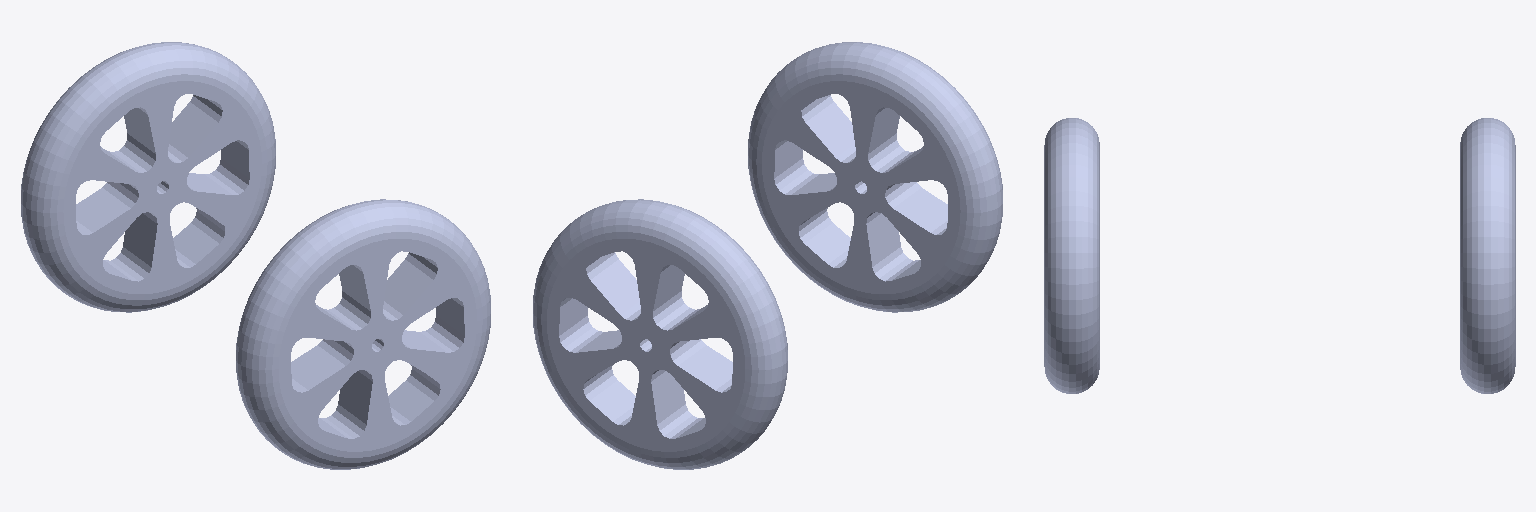
The robot description file, URDF, robot "robot_description":
<?xml version="1.0" encoding="utf-8"?>
<!-- This URDF was automatically created by SolidWorks to URDF Exporter! Originally created by [author] ([email redacted]) 
     Commit Version: 1.6.0-4-g7f85cfe  Build Version: 1.6.7995.38578
     For more information, please see http://wiki.ros.org/sw_urdf_exporter -->
<robot
        name="robot_description">
    <link
            name="Body">
        <inertial>
            <origin
                    xyz="0 0 0.1"
                    rpy="0 0 0"/>
            <mass
                    value="0.259687822807211"/>
            <inertia
                    ixx="0.000263883767567918"
                    ixy="1.04528591301818E-19"
                    ixz="2.83874959864717E-05"
                    iyy="0.00029022151243818"
                    iyz="-1.15373324614303E-19"
                    izz="0.000304338639837751"/>
        </inertial>
        <!--    <visual>-->
        <!--      <origin-->
        <!--        xyz="0 0 0"-->
        <!--        rpy="0 0 0" />-->
        <!--      <geometry>-->
        <!--        <mesh-->
        <!--          filename="package://robot_description/meshes/Body.STL" />-->
        <!--      </geometry>-->
        <!--      <material-->
        <!--        name="">-->
        <!--        <color-->
        <!--          rgba="0.792156862745098 0.819607843137255 0.933333333333333 1" />-->
        <!--      </material>-->
        <!--    </visual>-->
        <collision>
            <origin
                    xyz="0 0 0.1"
                    rpy="0 0 0"/>
            <geometry>
                <box size="0.1 0.12 0.2"/>
            </geometry>
        </collision>
    </link>
    <link
            name="Wheel_1">
        <inertial>
            <origin
                    xyz="0 0 0"
                    rpy="0 0 0"/>
            <mass
                    value="0.0981527452118754"/>
            <inertia
                    ixx="7.13246475399758E-05"
                    ixy="-1.0128527790249E-20"
                    ixz="4.9595293836236E-20"
                    iyy="0.00013687545343136"
                    iyz="3.05631062116939E-21"
                    izz="7.13246475399756E-05"/>
        </inertial>
        <visual>
            <origin
                    xyz="0 0 0"
                    rpy="0 0 0"/>
            <geometry>
                <mesh
                        filename="package://robot_description/meshes/Wheel_1.STL"/>
            </geometry>
            <material
                    name="">
                <color
                        rgba="0.792156862745098 0.819607843137255 0.933333333333333 1"/>
            </material>
        </visual>
        <collision>
            <origin
                    xyz="0 0 0"
                    rpy="0 0 0"/>
            <geometry>
                <mesh
                        filename="package://robot_description/meshes/Wheel_1.STL"/>
            </geometry>
        </collision>
    </link>
    <joint
            name="Wheel_1"
            type="continuous">
        <origin
                xyz="0 -0.075 0"
                rpy="0 0 0"/>
        <parent
                link="Body"/>
        <child
                link="Wheel_1"/>
        <axis
                xyz="0 -1 0"/>
    </joint>
    <link
            name="Wheel_2">
        <inertial>
            <origin
                    xyz="0 0 0"
                    rpy="0 0 0"/>
            <mass
                    value="0.0981527452118754"/>
            <inertia
                    ixx="7.13246475399757E-05"
                    ixy="1.1312674562977E-20"
                    ixz="4.9475740388328E-20"
                    iyy="0.00013687545343136"
                    iyz="-2.9293753358638E-21"
                    izz="7.13246475399756E-05"/>
        </inertial>
        <visual>
            <origin
                    xyz="0 0 0"
                    rpy="0 0 0"/>
            <geometry>
                <mesh
                        filename="package://robot_description/meshes/Wheel_2.STL"/>
            </geometry>
            <material
                    name="">
                <color
                        rgba="0.792156862745098 0.819607843137255 0.933333333333333 1"/>
            </material>
        </visual>
        <collision>
            <origin
                    xyz="0 0 0"
                    rpy="0 0 0"/>
            <geometry>
                <mesh
                        filename="package://robot_description/meshes/Wheel_2.STL"/>
            </geometry>
        </collision>
    </link>
    <joint
            name="Wheel_2"
            type="continuous">
        <origin
                xyz="0 0.065 0"
                rpy="0 0 0"/>
        <parent
                link="Body"/>
        <child
                link="Wheel_2"/>
        <axis
                xyz="0 -1 0"/>
    </joint>
</robot>

--- Render facts (derived) ---
3 views of the same robot in one strip: view 1: azimuth 30°, elevation 25°; view 2: azimuth 150°, elevation 25°; view 3: azimuth 270°, elevation 25° (orthographic).
Robot: robot_description — 3 links, 2 joints (2 continuous); root link Body; default pose: every joint at zero.
Visible links, largest first — view 1: Wheel_1, Wheel_2; view 2: Wheel_1, Wheel_2; view 3: Wheel_1, Wheel_2.
Link boxes in pixels (<box>): Wheel_1: <box>236,199,490,469</box>; Wheel_2: <box>21,42,275,312</box>; Wheel_1: <box>748,42,1002,312</box>; Wheel_2: <box>533,199,787,469</box>; Wheel_1: <box>1044,118,1099,393</box>; Wheel_2: <box>1460,118,1515,393</box>.
Bounding box of the posed robot: 0.0999 × 0.17 × 0.0997 m (x, y, z).
Meshes: 2 distinct files referenced, 2 mesh visuals loaded (2 binary STL).
